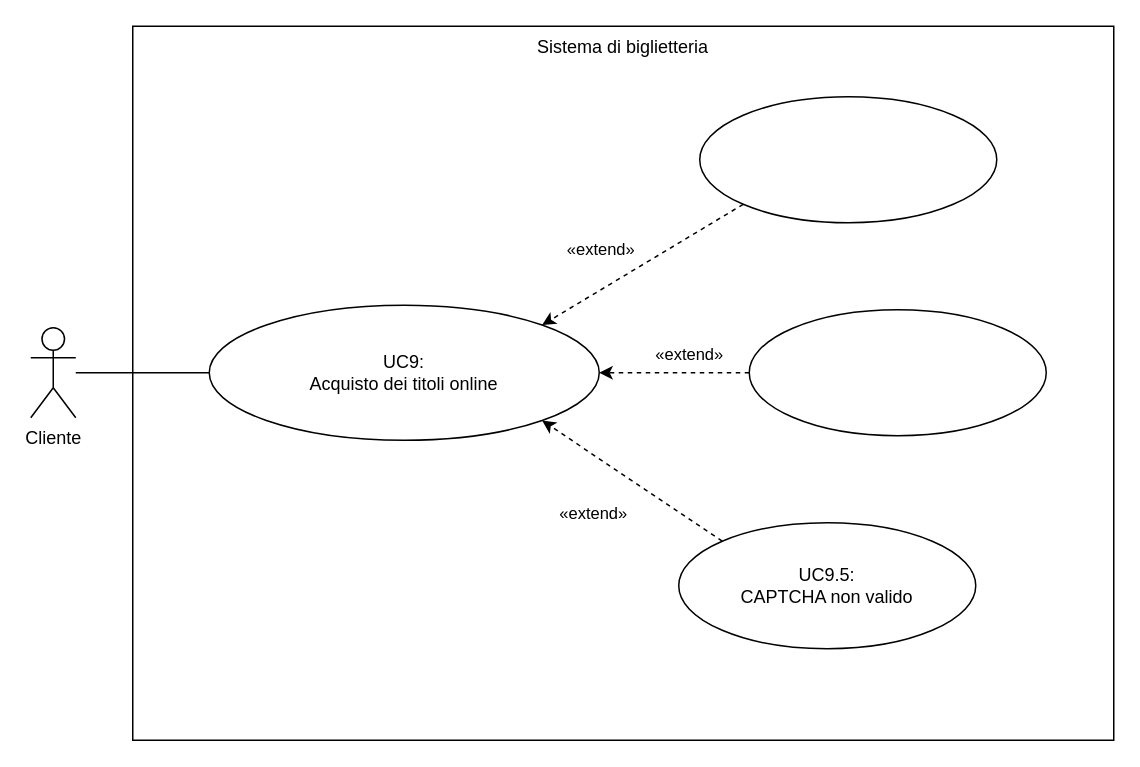
Image size: 1140x767. Some labels were removed from this diagram. The box of each missing label's shape, as (x1, y1, x2, y2) in pixels:
UC9.3: Limite titoli raggiunto: (748, 308, 1046, 436)
UC9.4: Transazione non completata: (698, 95, 997, 223)
